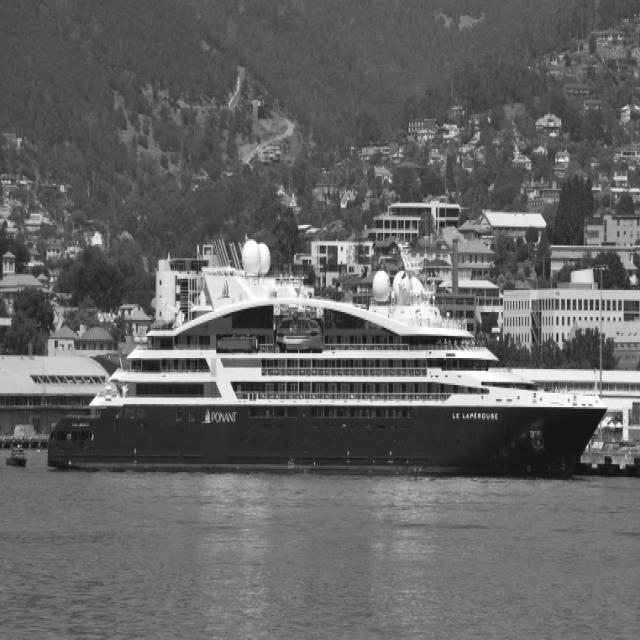cruises: (44, 223, 612, 489)
